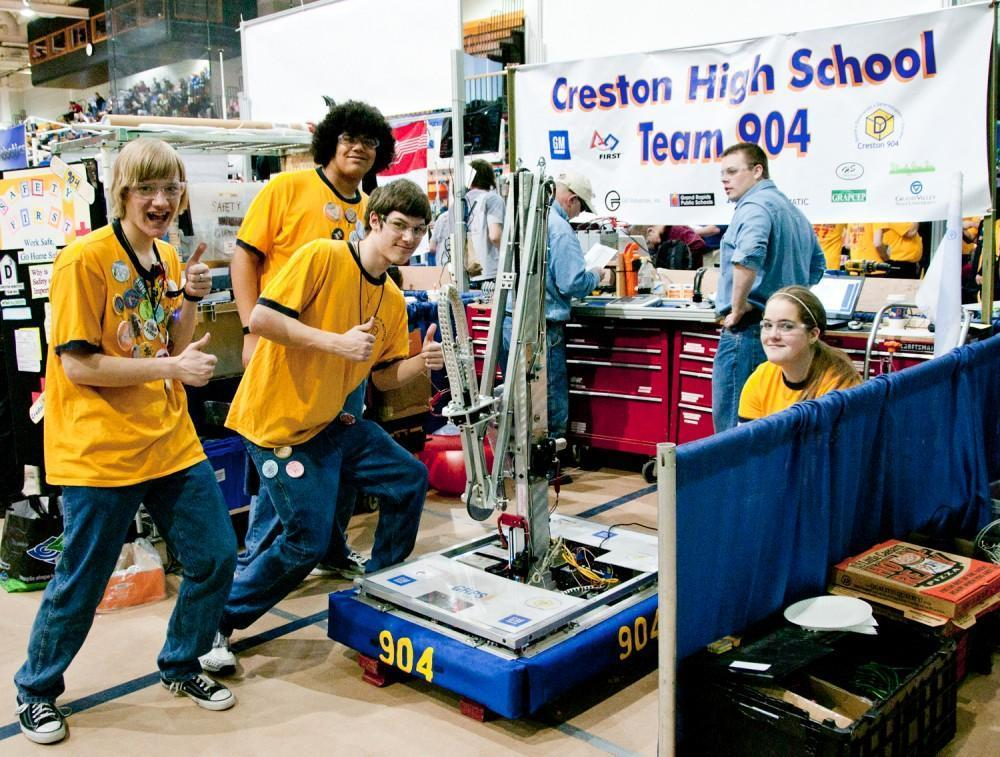robot: (322, 151, 668, 731)
